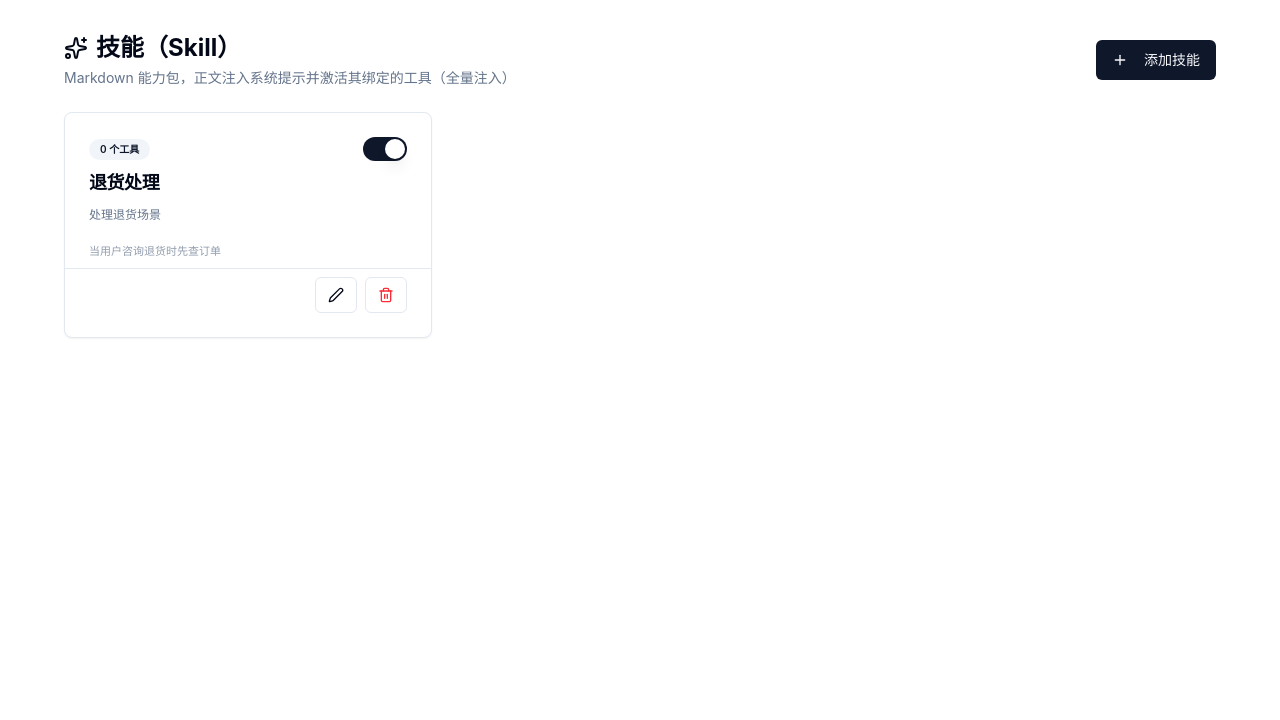
Test case: SkillConfigPage MCP 工具勾选 › 只渲染 readOnly 且 ACTIVE 且所属 server 已启用的 MCP 工具
Expected: the text "退货处理" is shown, [89,172,159,193]
Click the button named "编辑技能" at (336, 294), box [315,276,357,312]
(page scrolled)
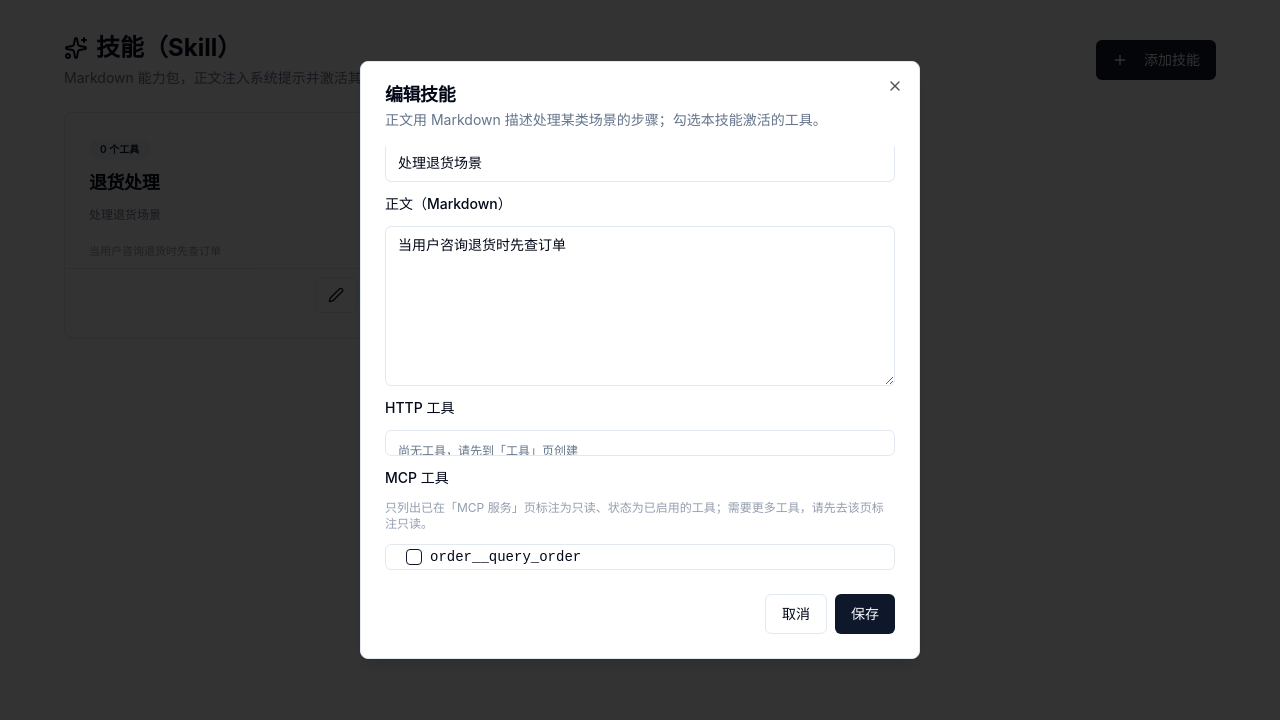
Result: the dialog is shown at [360,61,920,659]
Result: the checkbox named "order__query_order" is shown at [406,548,422,564]
